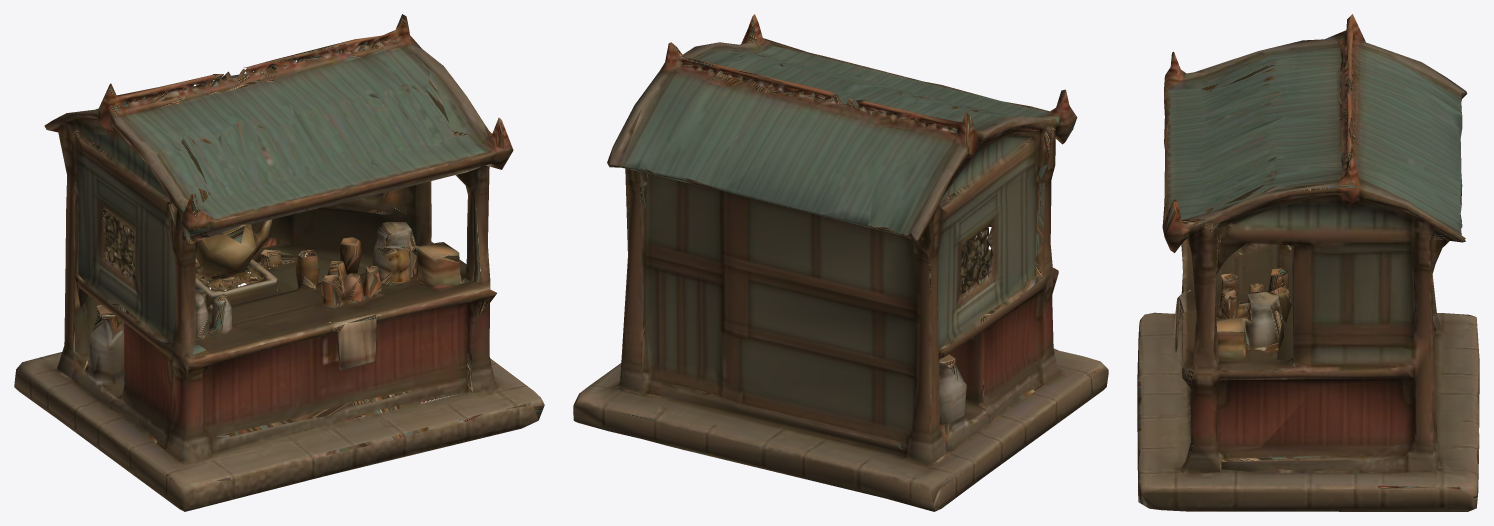
Rendered from teastall.glb.
The picture shows the model from 3 angles, left to right: view 1: azimuth 30°, elevation 25°; view 2: azimuth 150°, elevation 25°; view 3: azimuth 270°, elevation 25°; orthographic projection.
Parts seen in each view (by area): view 1: tripo_node_c8b0b8ca; view 2: tripo_node_c8b0b8ca; view 3: tripo_node_c8b0b8ca.
Part boxes in pixels (x1=…): tripo_node_c8b0b8ca: x1=14, y1=14, x2=544, y2=511; tripo_node_c8b0b8ca: x1=573, y1=14, x2=1108, y2=511; tripo_node_c8b0b8ca: x1=1137, y1=14, x2=1479, y2=511.
Size of the model in its own units: 97.66 by 87.28 by 79.83.
1 material, 1 textured.
